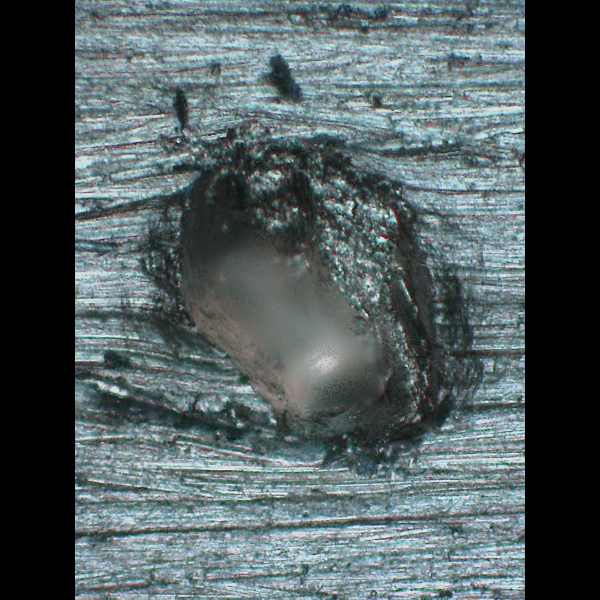d: (140, 118, 493, 485)
